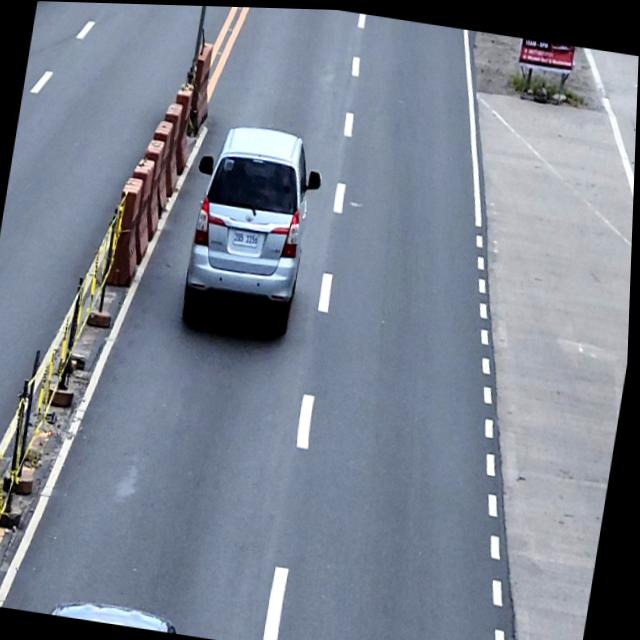Car: (176, 116, 330, 335)
License-Plate: (232, 225, 263, 248)
